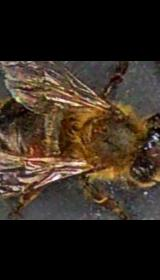varroa_mite: (16, 146, 44, 170)
